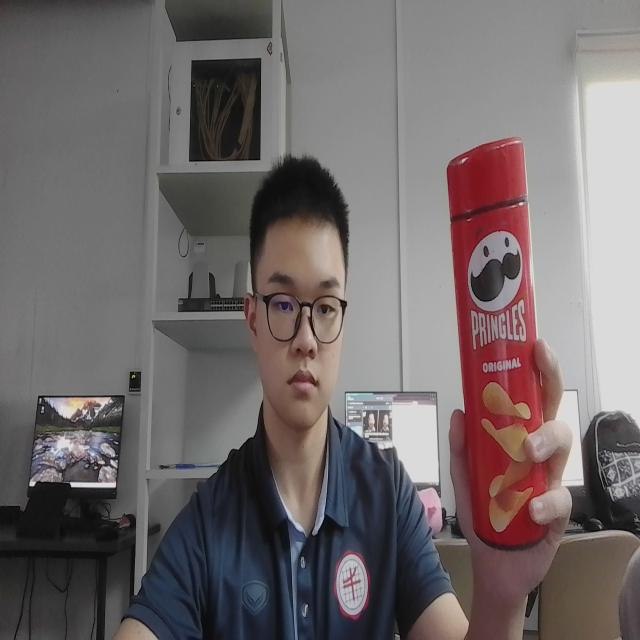water bottle: (440, 130, 555, 558)
